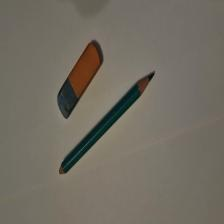eraser: (58, 44, 103, 121)
pencil: (60, 74, 156, 176)
